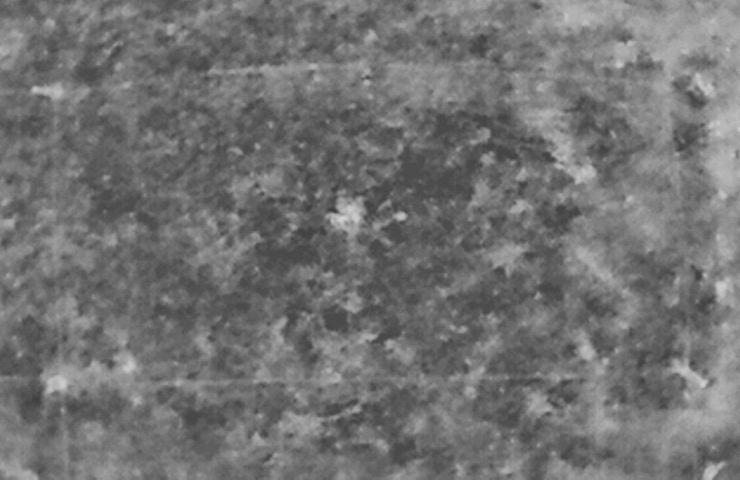landmines: (328, 194, 368, 230)
